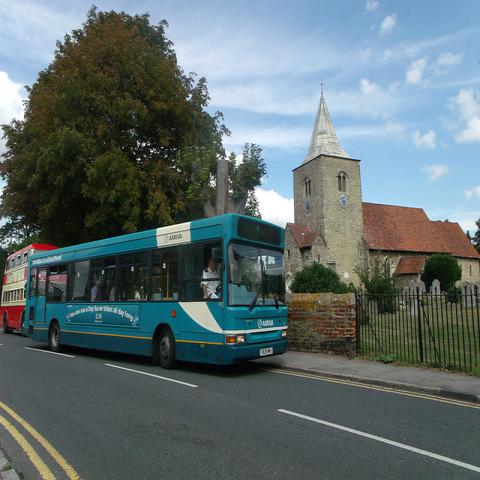bus: (22, 211, 290, 371), (0, 243, 56, 332)
